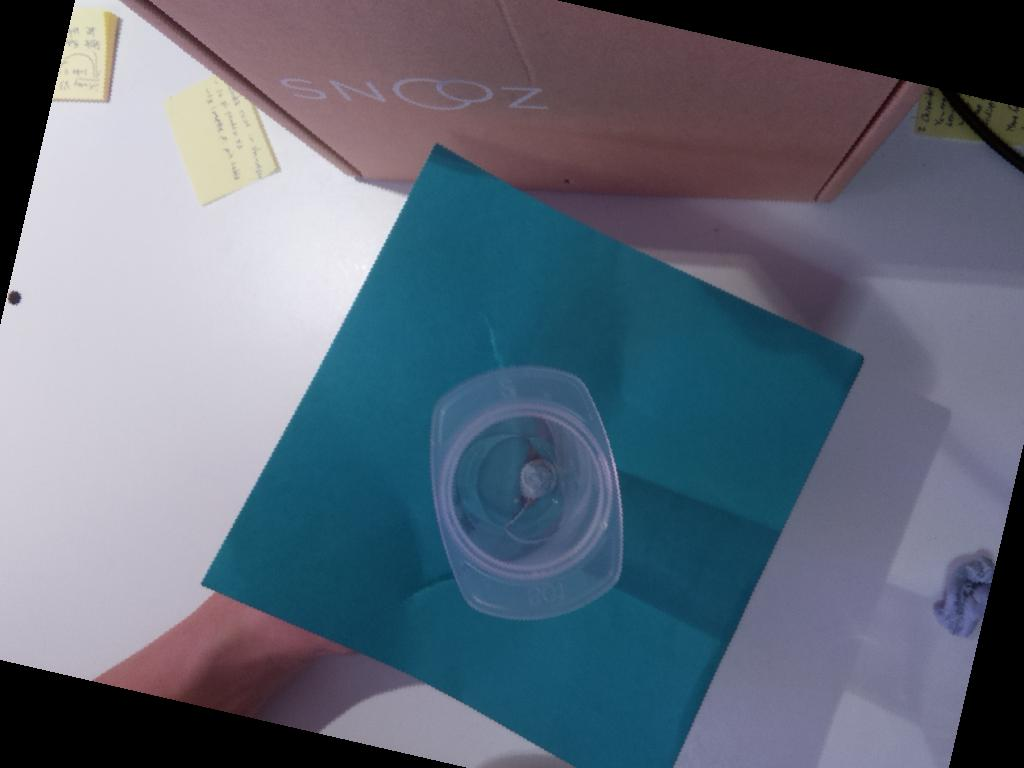clean: (430, 366, 624, 623)
